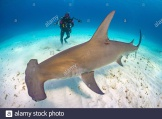Hammer: (16, 8, 149, 97)
